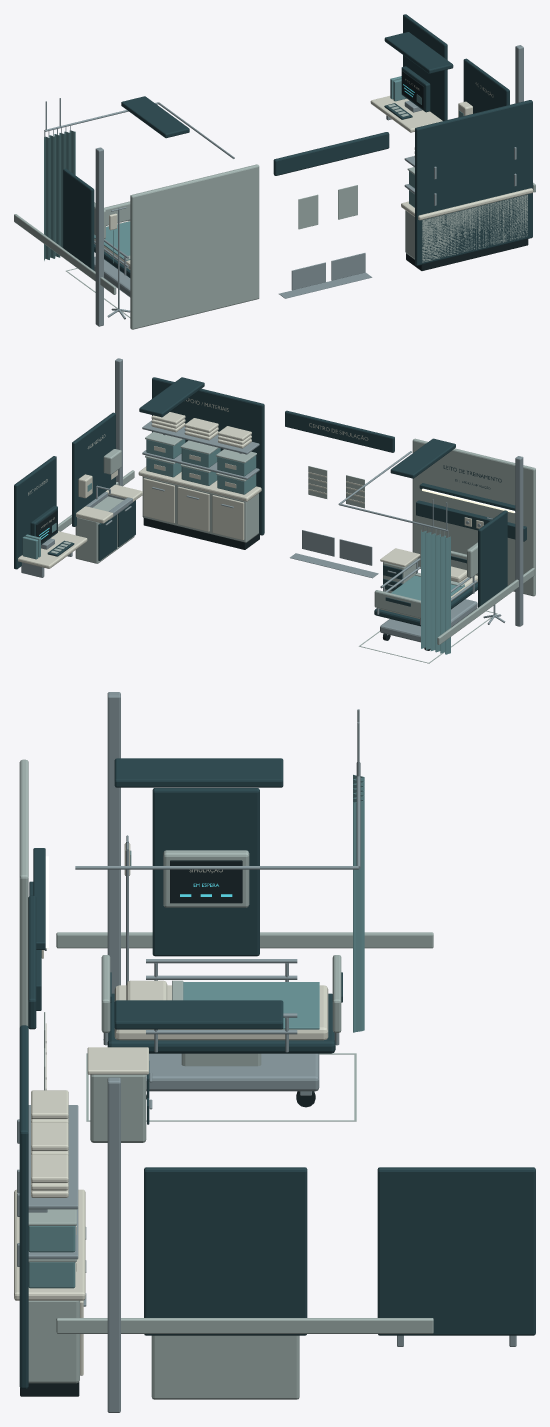
The model's file is retaguarda-arena.glb.
3 renders of one model, top to bottom at view 1: azimuth 30°, elevation 25°; view 2: azimuth 150°, elevation 25°; view 3: azimuth 270°, elevation 25°, orthographic. The views are drawn at different scales.
Visible parts, largest first — view 1: Retaguarda_Petroleo.001, Retaguarda_Esmalte.001, Retaguarda_Metal.001, Retaguarda_Tecido.001, Retaguarda_Marfim.001, Retaguarda_Borracha.001; view 2: Retaguarda_Petroleo.001, Retaguarda_Esmalte.001, Retaguarda_Marfim.001, Retaguarda_Metal.001, Retaguarda_Tecido.001, Retaguarda_Borracha.001; view 3: Retaguarda_Petroleo.001, Retaguarda_Esmalte.001, Retaguarda_Metal.001, Retaguarda_Marfim.001, Retaguarda_Tecido.001, Retaguarda_Borracha.001.
Part boxes in pixels (<box>): Retaguarda_Petroleo.001: <box>63,14,532,277</box>; Retaguarda_Esmalte.001: <box>14,104,535,329</box>; Retaguarda_Metal.001: <box>44,45,523,326</box>; Retaguarda_Tecido.001: <box>44,76,463,263</box>; Retaguarda_Marfim.001: <box>94,79,533,269</box>; Retaguarda_Borracha.001: <box>402,71,528,270</box>; Retaguarda_Petroleo.001: <box>14,377,526,626</box>; Retaguarda_Esmalte.001: <box>50,432,535,663</box>; Retaguarda_Marfim.001: <box>18,398,483,618</box>; Retaguarda_Metal.001: <box>21,358,523,642</box>; Retaguarda_Tecido.001: <box>22,439,464,654</box>; Retaguarda_Borracha.001: <box>36,510,430,650</box>; Retaguarda_Petroleo.001: <box>19,758,535,1388</box>; Retaguarda_Esmalte.001: <box>19,759,433,1399</box>; Retaguarda_Metal.001: <box>17,692,516,1412</box>; Retaguarda_Marfim.001: <box>14,843,328,1375</box>; Retaguarda_Tecido.001: <box>28,774,364,1288</box>; Retaguarda_Borracha.001: <box>20,860,315,1396</box>.
Size of the model in its own units: 9.04 by 3.59 by 5.1.
